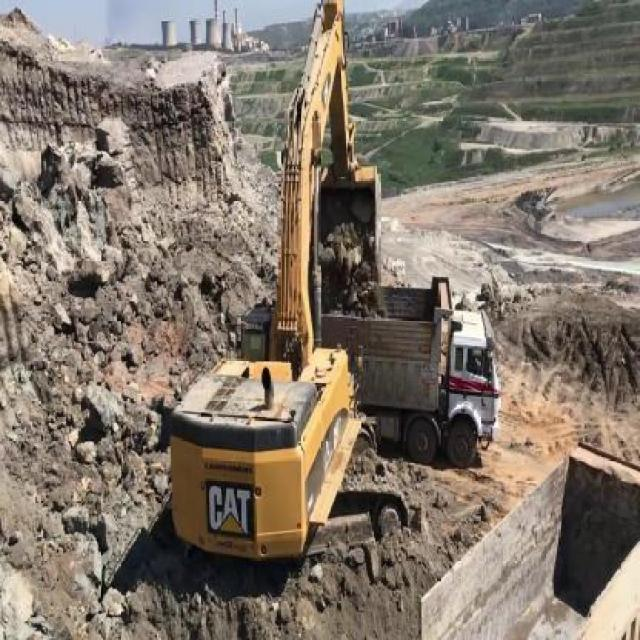Dump Truck: (415, 439, 639, 639), (358, 272, 502, 470)
Excavator: (165, 0, 408, 562)
